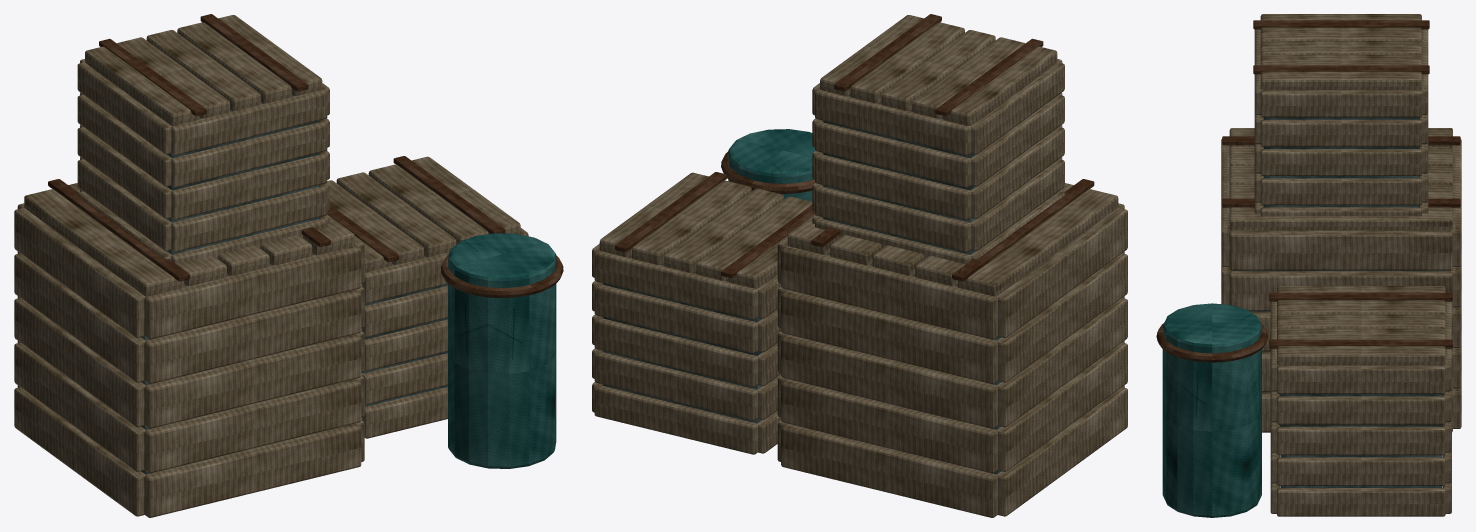
3 views of the same model, side by side, from view 1: azimuth 30°, elevation 25°; view 2: azimuth 150°, elevation 25°; view 3: azimuth 270°, elevation 25° (orthographic). The views are drawn at different scales.
Visible parts, largest first — view 1: Coast_supplies; view 2: Coast_supplies; view 3: Coast_supplies.
Part boxes in pixels (bbox=[...]): Coast_supplies: bbox=[14, 14, 563, 517]; Coast_supplies: bbox=[592, 14, 1127, 517]; Coast_supplies: bbox=[1156, 14, 1461, 517].
Bounding box in the file's own units: 1.77 × 1.57 × 1.23.
Materials: 4 (4 with a texture image).
